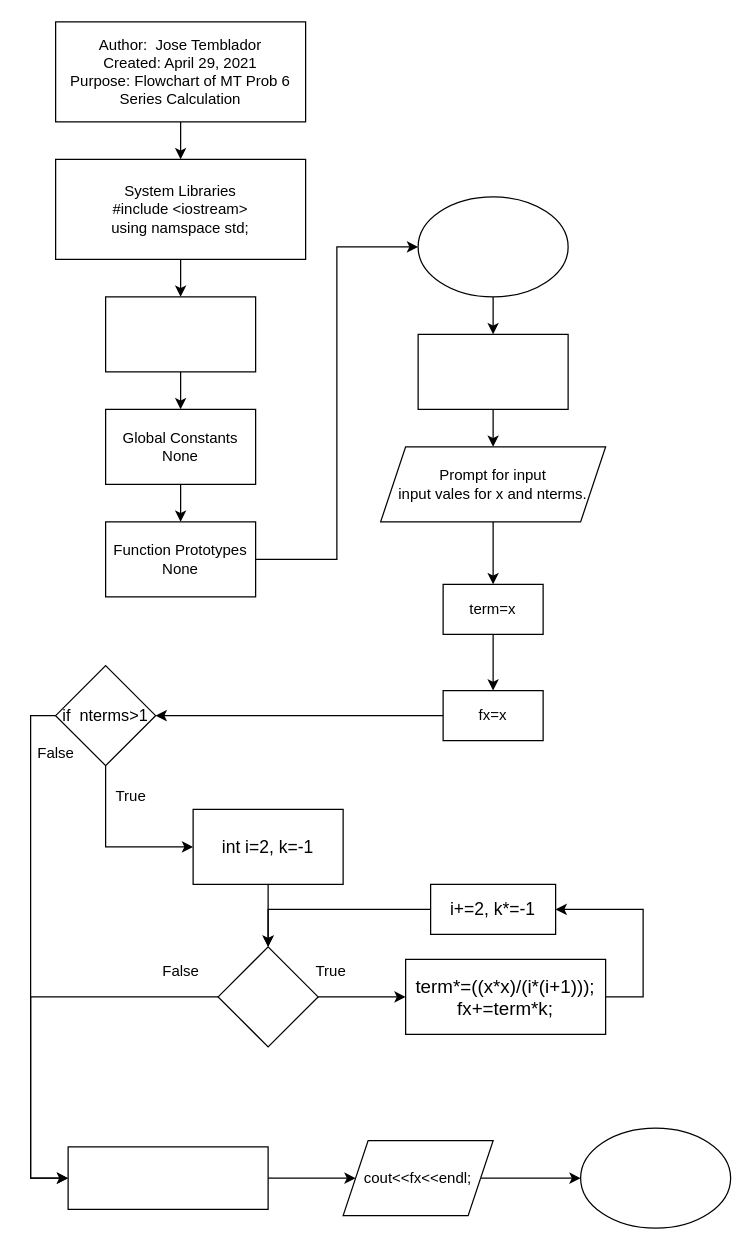
Some shapes in this 753 by 1250 pixel diagram are drawn without their labels. The shapes that lost their labels are listed below. From the top down, each one's centre as x and y in pixels, then its label:
At point (492, 246): "Main".
At point (180, 334): "User Libraries None".
At point (492, 371): "Declare all variables float x,fx,term; int nterms;".
At point (267, 996): "i<=nterms".
At point (167, 1177): "cout<<fixed<<setprecision(6)<<showpoint".
At point (655, 1177): "return 0; Exit from main".
